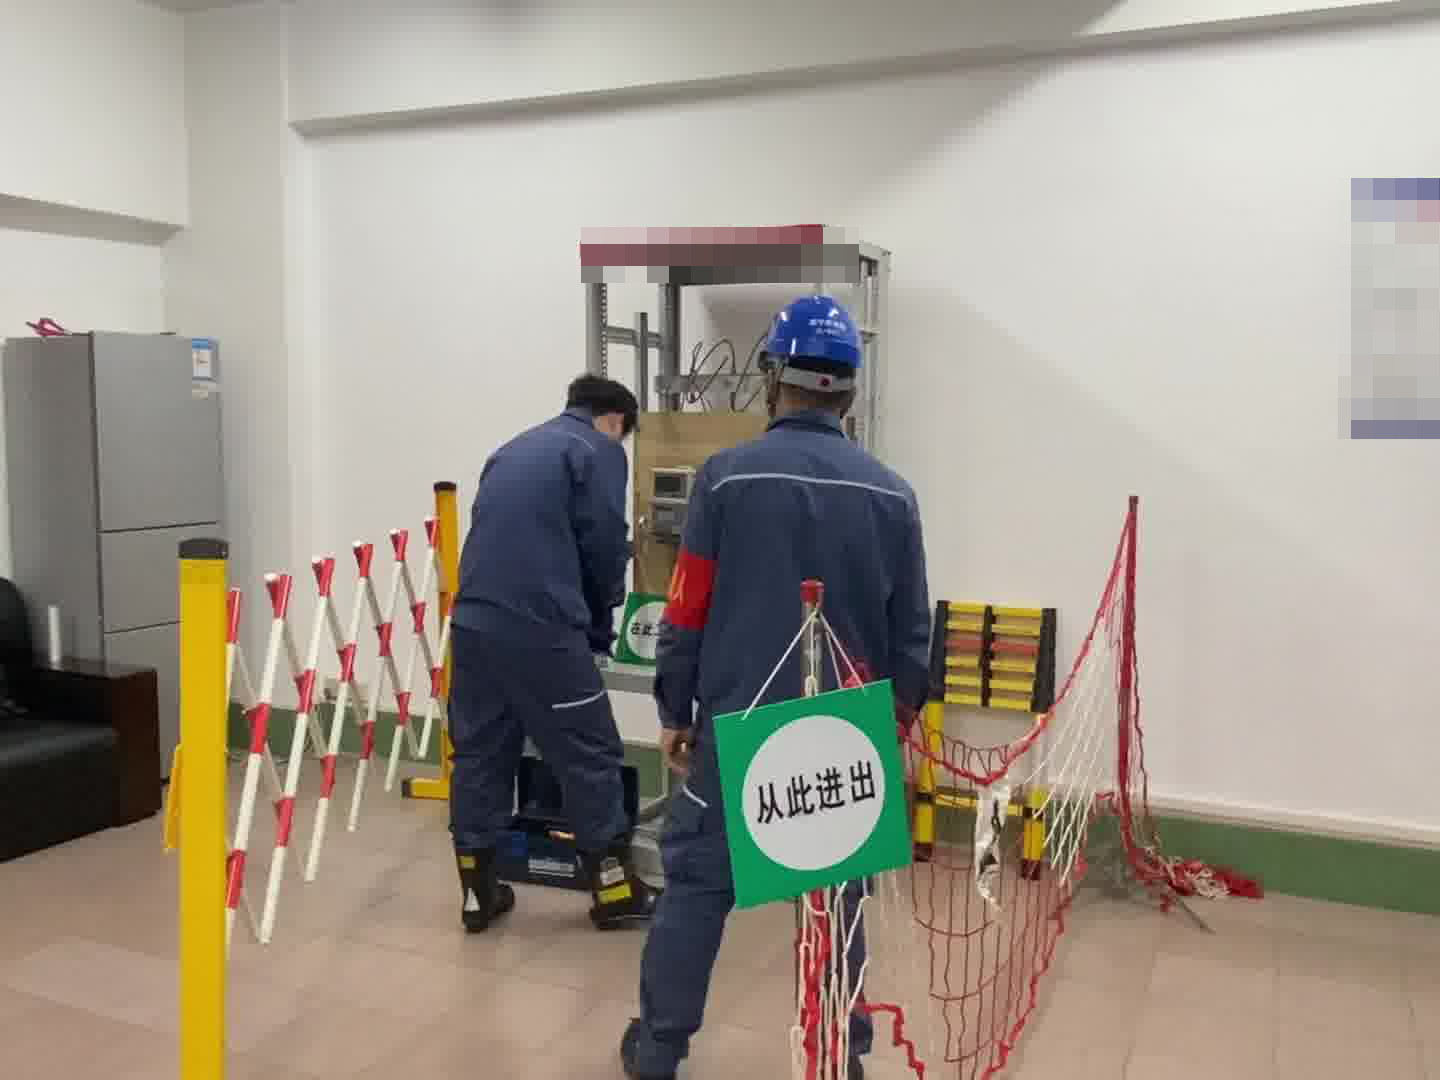badge: (663, 548, 718, 632)
downsuit: (450, 643, 623, 865), (629, 728, 737, 1079)
halt: (757, 294, 868, 414)
hand: (654, 719, 696, 776)
intosign: (706, 698, 913, 886)
person: (623, 288, 947, 1079), (448, 373, 648, 930)
shoe: (453, 854, 522, 929), (585, 852, 653, 927)
unhalt: (568, 374, 638, 436)
upsuit: (657, 417, 940, 708), (463, 414, 627, 631)
worksign: (617, 589, 663, 664)
